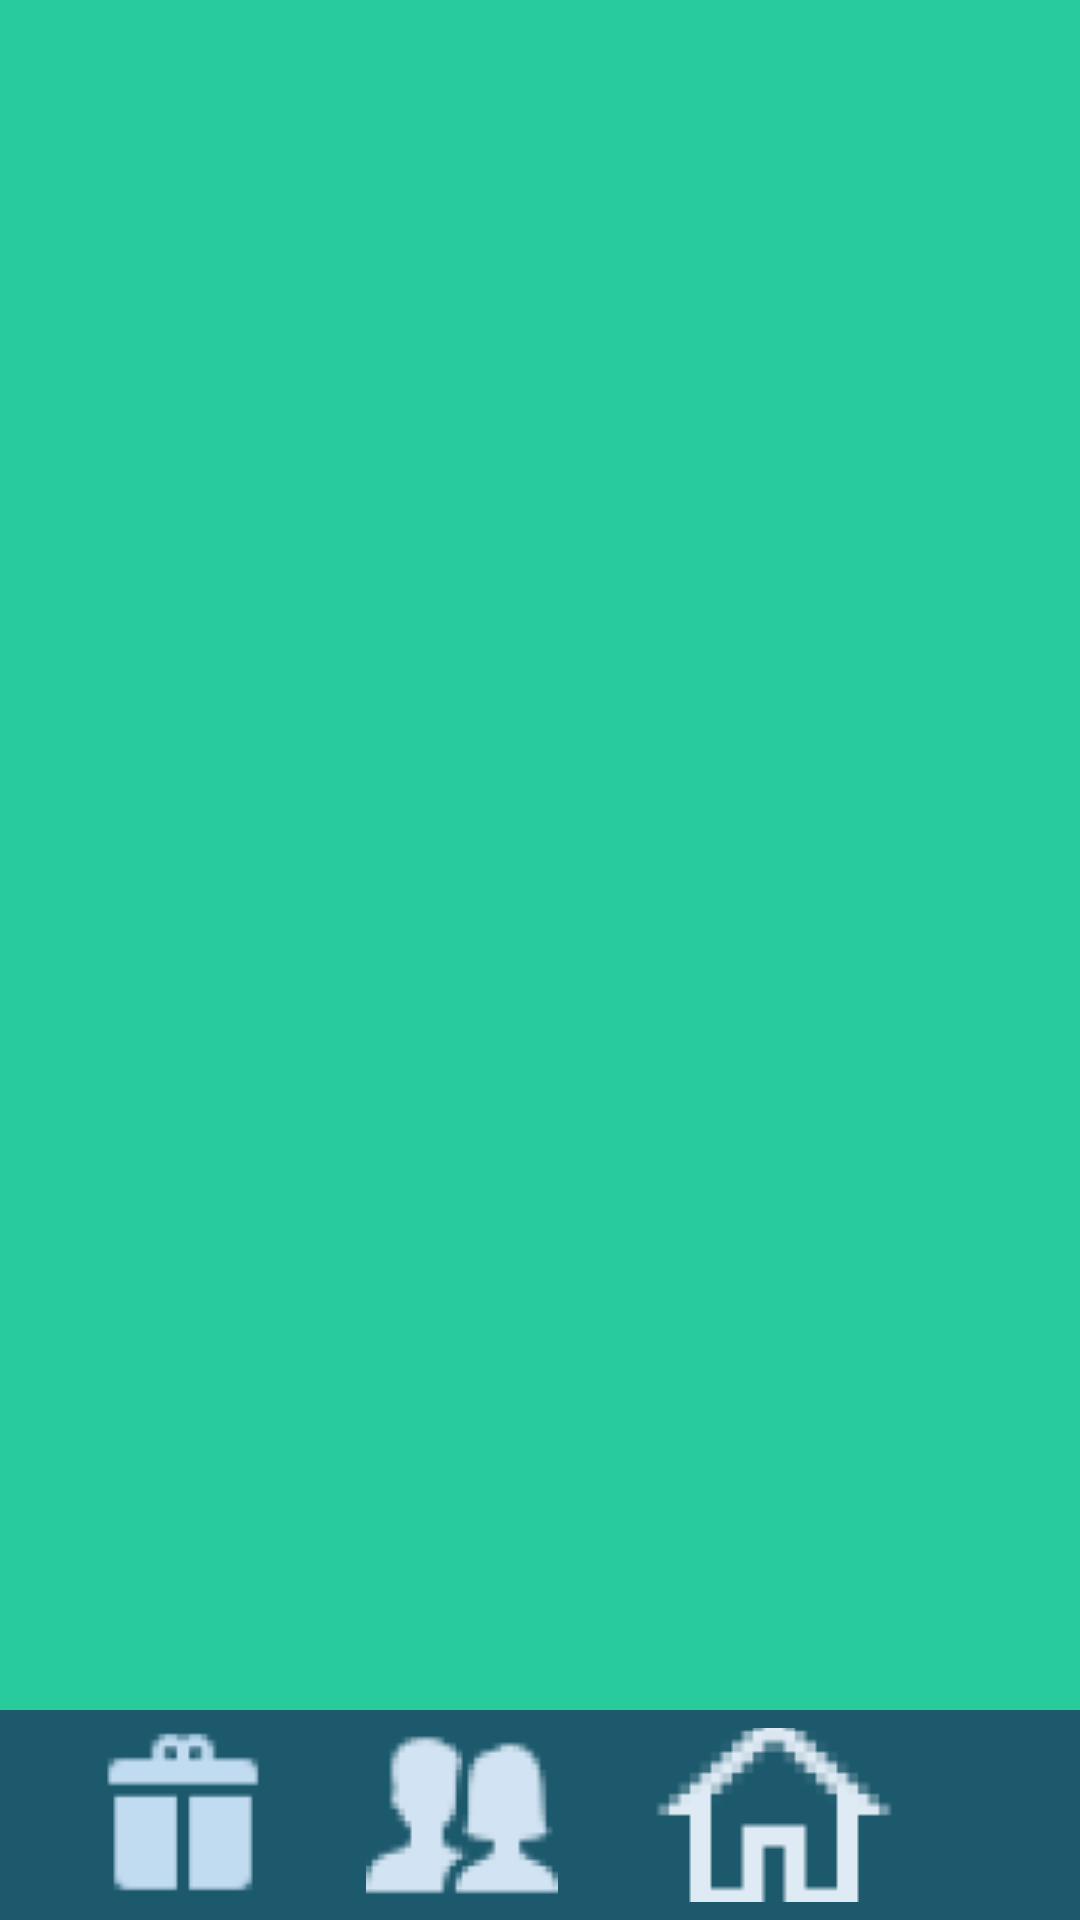

Locate icon controls on the screen. Image size 1080*1920, boxes as BBox(x1, y1, x2, y2).
casa: BBox(657, 1728, 891, 1902)
persones: BBox(366, 1736, 558, 1894)
regal: BBox(107, 1733, 259, 1891)
